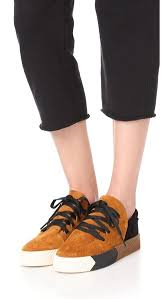adidas AW Skate Sand: (16, 185, 102, 274), (55, 192, 141, 275)
